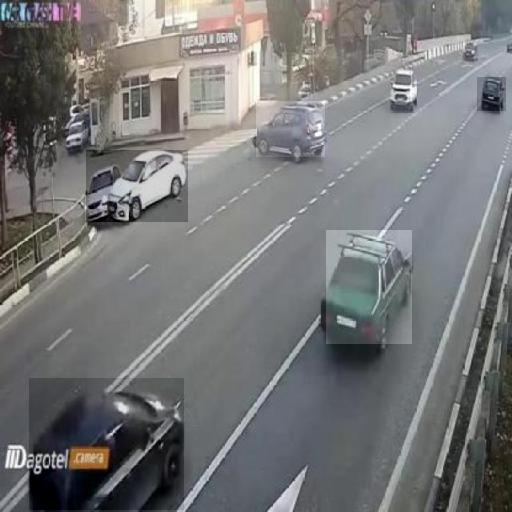小汽车: (29, 378, 184, 510), (326, 230, 412, 344), (256, 101, 325, 157), (391, 67, 421, 111), (477, 77, 506, 111)
小汽车撞小汽车: (86, 150, 188, 222)
